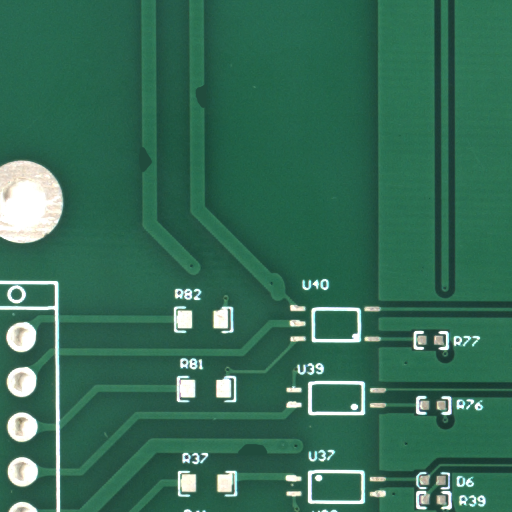Mouse_bite: (145, 157, 168, 203), (253, 449, 289, 466), (200, 96, 217, 128)
